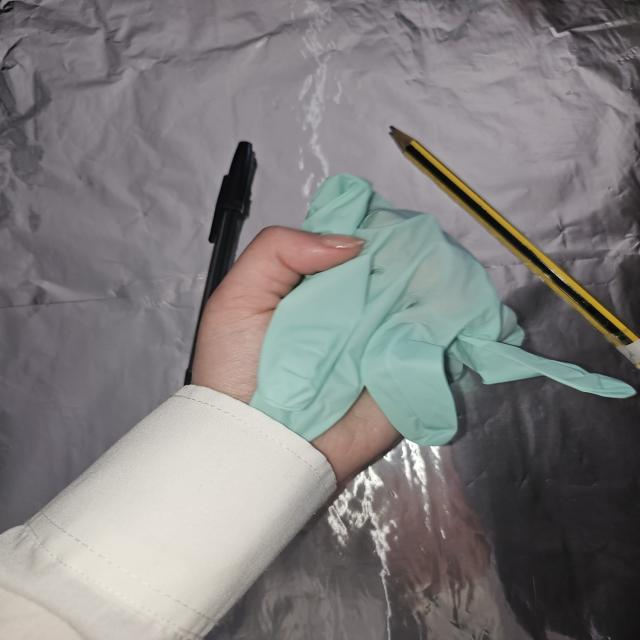glove_partial: (191, 174, 640, 472)
